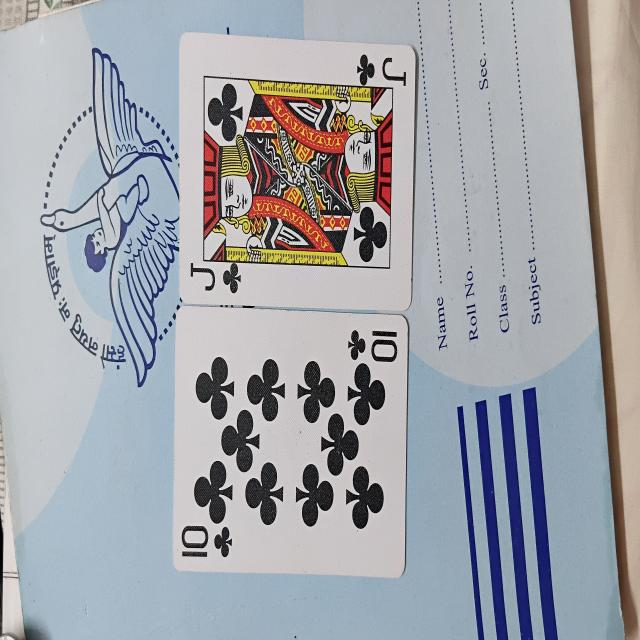10C: (172, 305, 411, 583)
JC: (176, 27, 416, 311)
